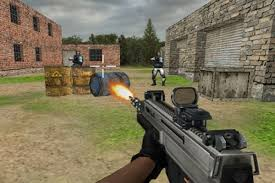gun: (127, 85, 260, 181)
